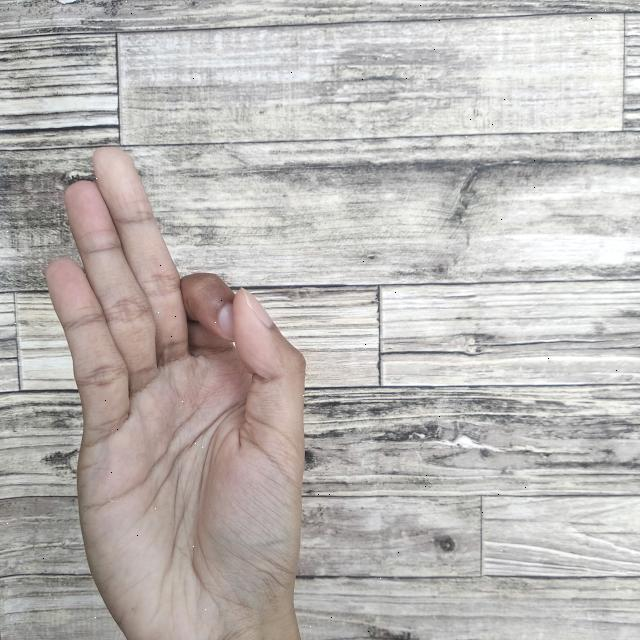F: (43, 145, 308, 640)
